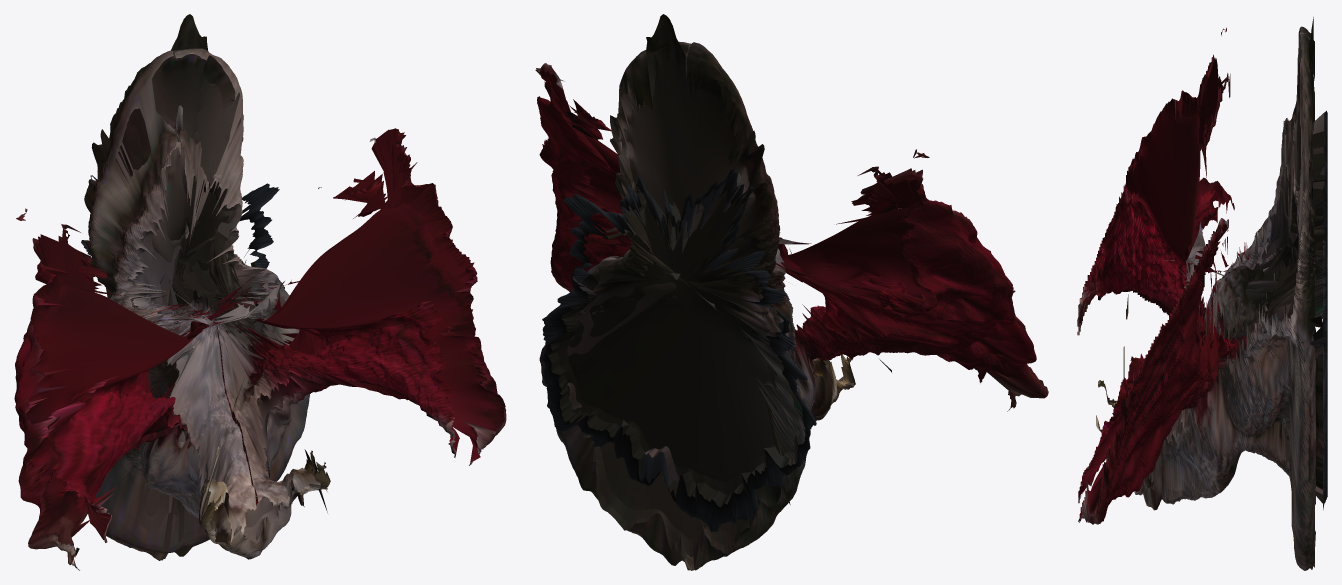
Rendered from mesh_inpaint.glb.
The picture shows the model from 3 angles, left to right: view 1: azimuth 30°, elevation 25°; view 2: azimuth 150°, elevation 25°; view 3: azimuth 270°, elevation 25°; orthographic projection. The views are drawn at different scales.
Parts seen in each view (by area): view 1: ipn, fill; view 2: fill, ipn; view 3: ipn, fill.
Part boxes in pixels (x1,y1,x2,y2): ipn: [14, 14, 506, 570]; fill: [24, 45, 504, 565]; fill: [537, 46, 1016, 568]; ipn: [535, 14, 1048, 570]; ipn: [1077, 17, 1327, 570]; fill: [1078, 39, 1327, 546].
Bounding box in the file's own units: 1.46 × 1.56 × 0.6341.
2 materials, 1 textured.
